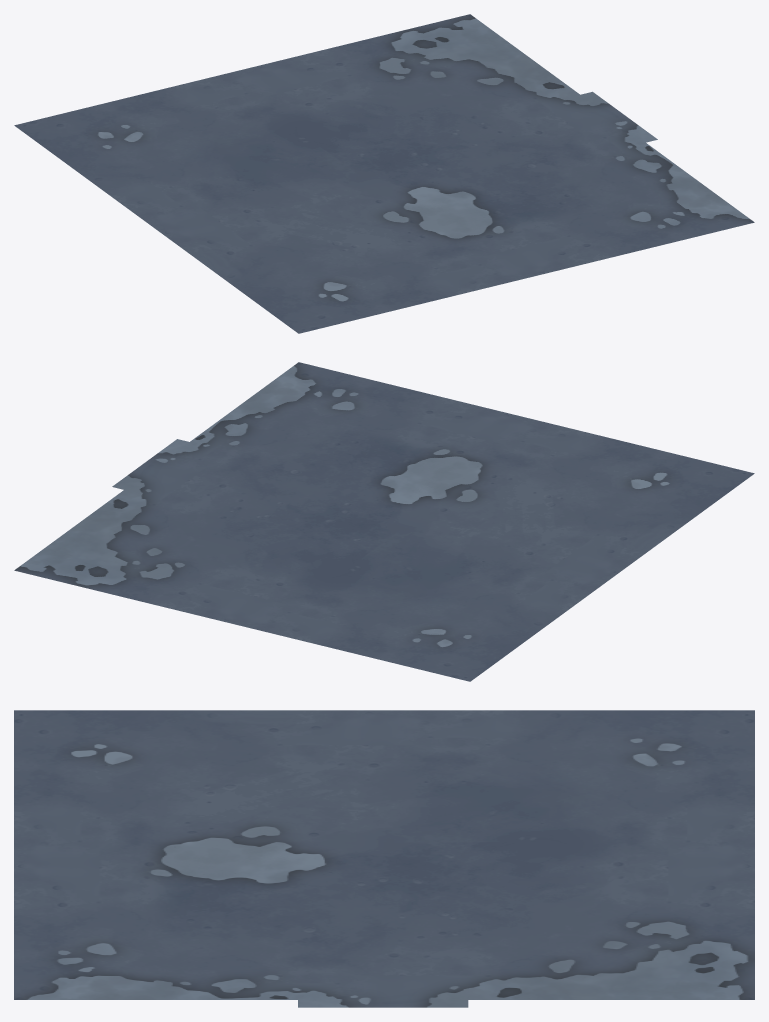
File: dungeon_ground_entry.FBX
3 renders of one model, top to bottom at view 1: azimuth 30°, elevation 25°; view 2: azimuth 150°, elevation 25°; view 3: azimuth 270°, elevation 25°, orthographic. The views are drawn at different scales.
Visible parts, largest first — view 1: entrylarge; view 2: entrylarge; view 3: entrylarge.
Part boxes in pixels (<box>): entrylarge: <box>14,14,754,333</box>; entrylarge: <box>14,362,754,681</box>; entrylarge: <box>14,710,754,1007</box>.
Bounding box in the file's own units: 950 × 6.12e-14 × 1000.
Materials: 1 (1 with a texture image).
